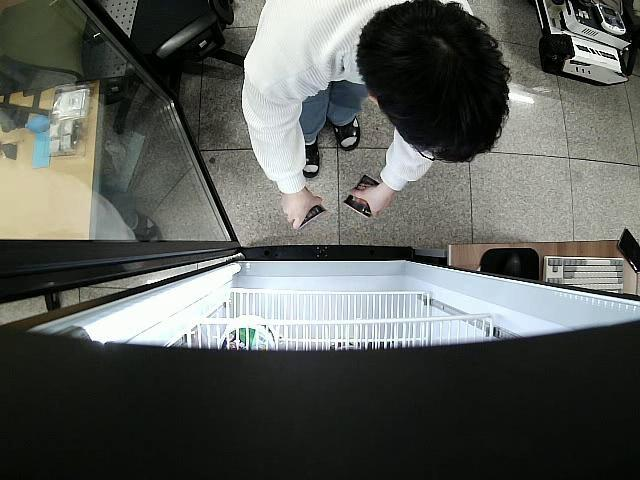08_buldak_S: (344, 174, 382, 216), (295, 184, 328, 228)
